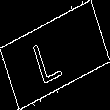L_N: (37, 26, 73, 84)
